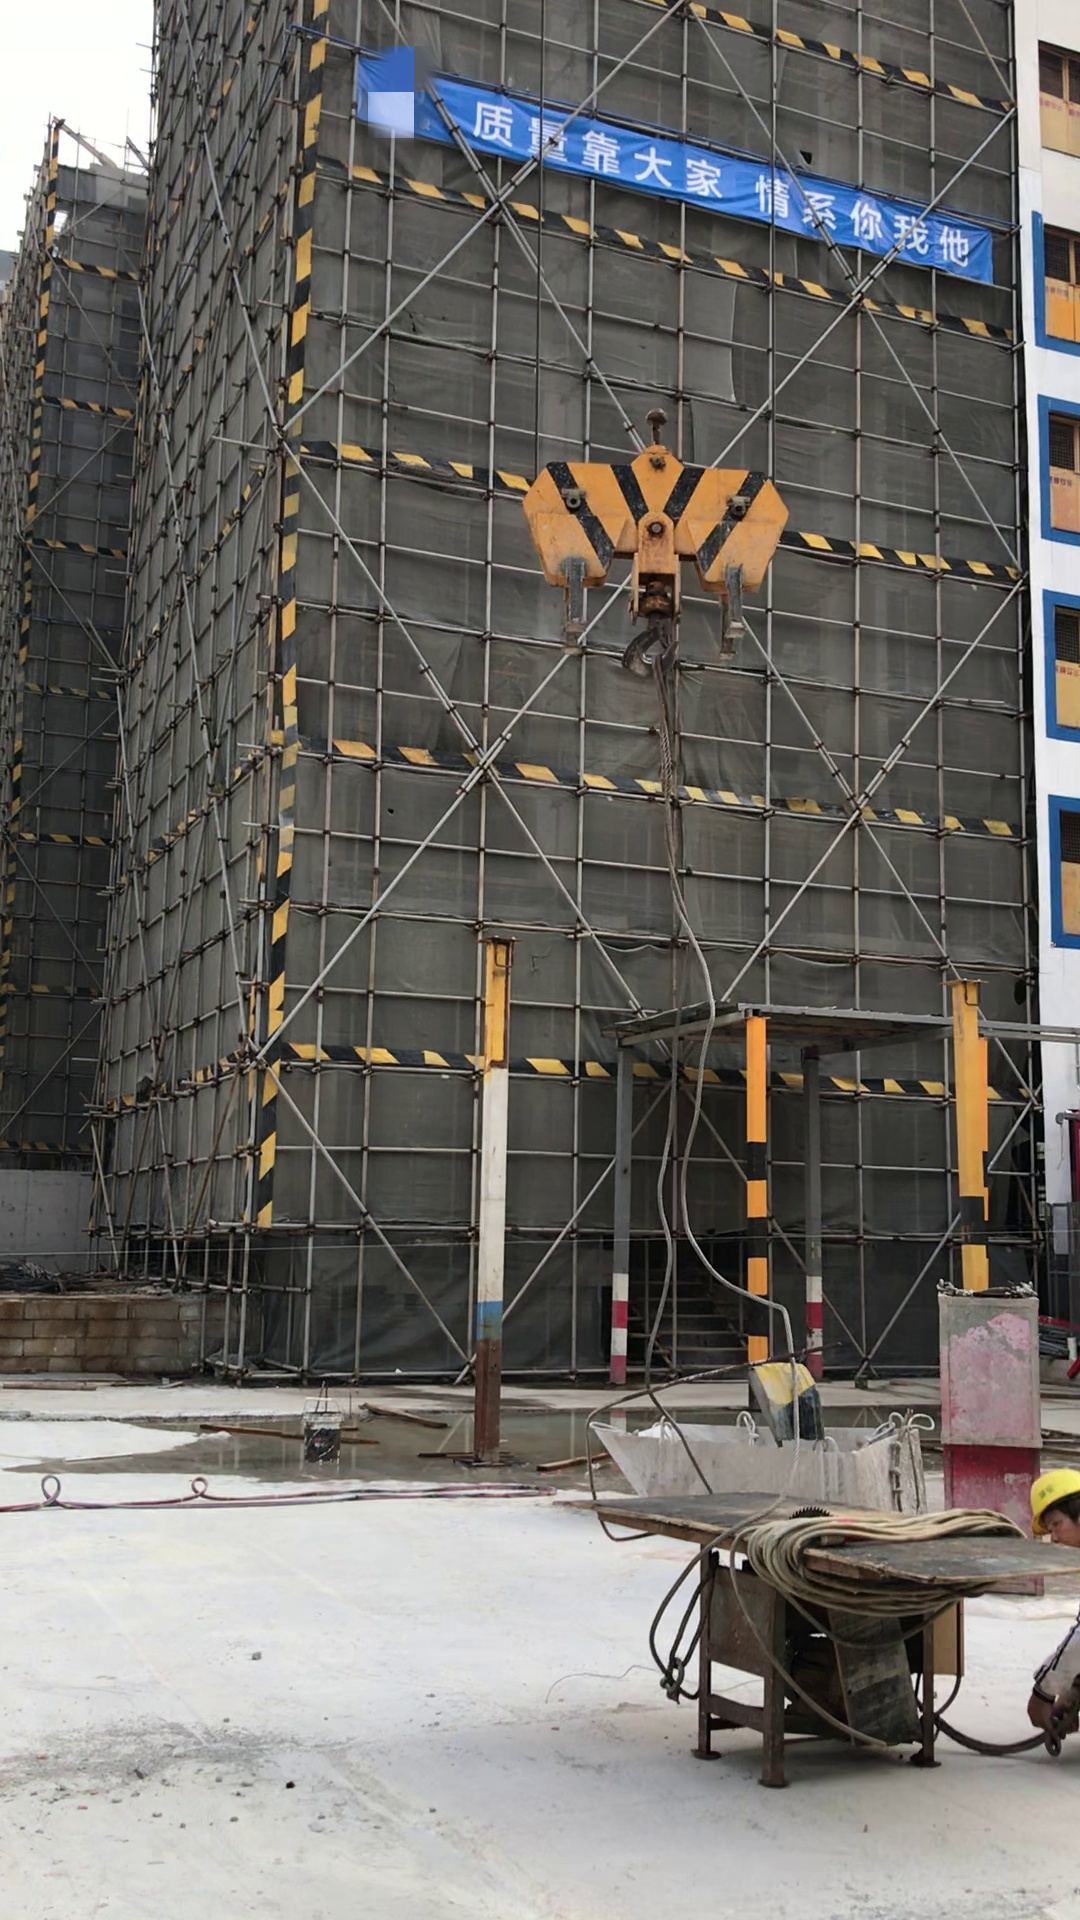cutter: (592, 1475, 1042, 1787)
helmet: (1014, 1456, 1080, 1534)
hook: (521, 409, 788, 663)
hopper: (573, 1397, 924, 1525)
person: (1006, 1468, 1080, 1732)
slogan: (480, 69, 985, 272)
